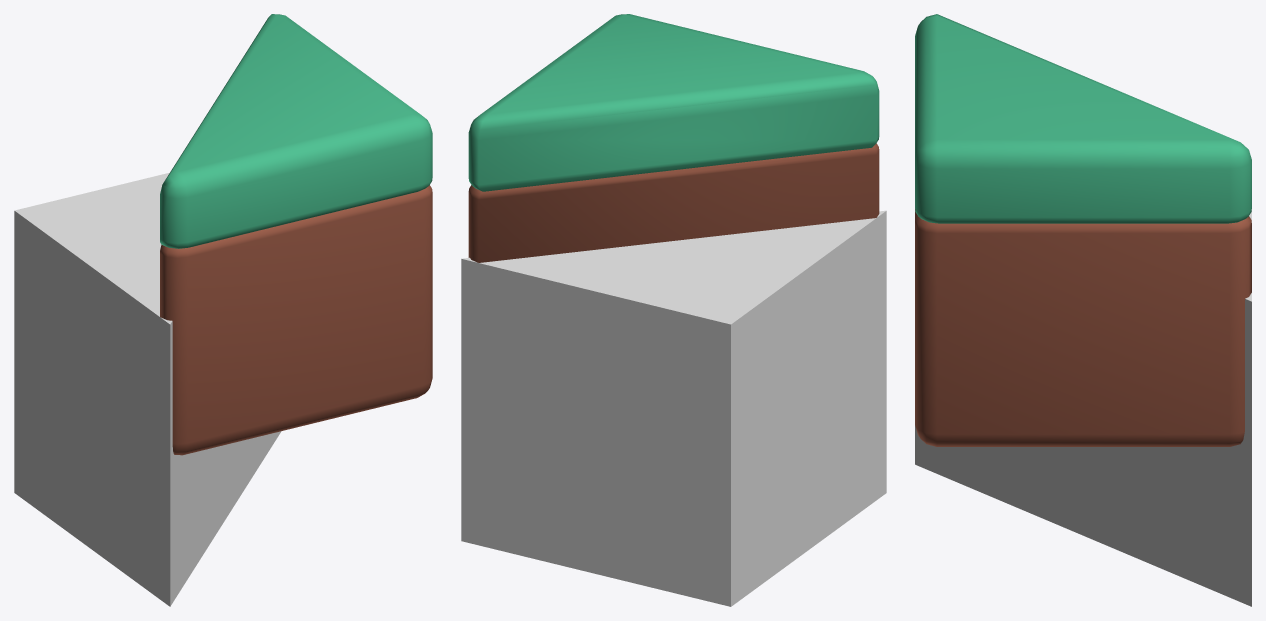
Rendered from tile_water_high_triangle.glb.
The picture shows the model from 3 angles, left to right: view 1: azimuth 30°, elevation 25°; view 2: azimuth 150°, elevation 25°; view 3: azimuth 270°, elevation 25°; orthographic projection. The views are drawn at different scales.
Parts seen in each view (by area): view 1: tileHigh_triangle_desert.001, Cube; view 2: Cube, tileHigh_triangle_desert.001; view 3: tileHigh_triangle_desert.001, Cube.
Part boxes in pixels (x1=…): tileHigh_triangle_desert.001: x1=160, y1=14, x2=432, y2=455; Cube: x1=14, y1=172, x2=281, y2=606; Cube: x1=461, y1=210, x2=886, y2=606; tileHigh_triangle_desert.001: x1=468, y1=14, x2=879, y2=262; tileHigh_triangle_desert.001: x1=915, y1=14, x2=1251, y2=446; Cube: x1=915, y1=209, x2=1251, y2=606.
Size of the model in its own units: 2 by 3 by 2.
